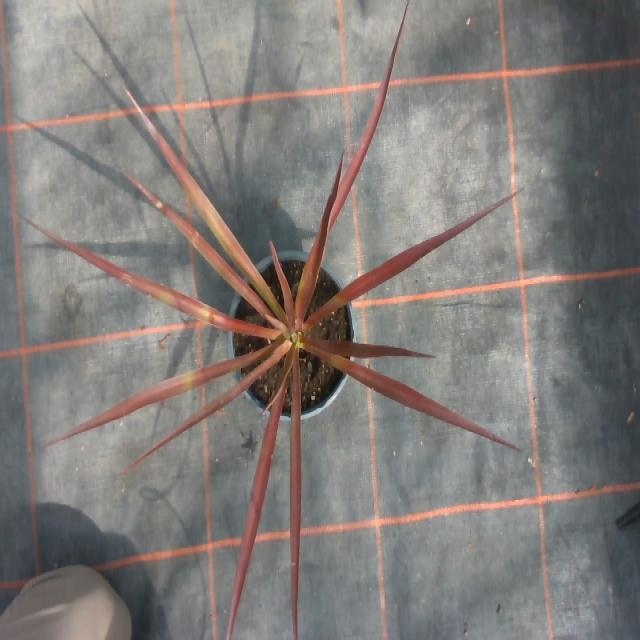Yucca-aloifolia: (127, 89, 283, 317), (27, 219, 279, 337), (304, 192, 517, 327), (125, 173, 283, 328), (303, 340, 519, 449), (48, 347, 274, 444), (125, 347, 284, 469), (329, 9, 405, 229), (226, 387, 284, 639), (296, 156, 342, 325), (291, 349, 301, 639), (303, 336, 434, 356), (270, 243, 293, 337)
